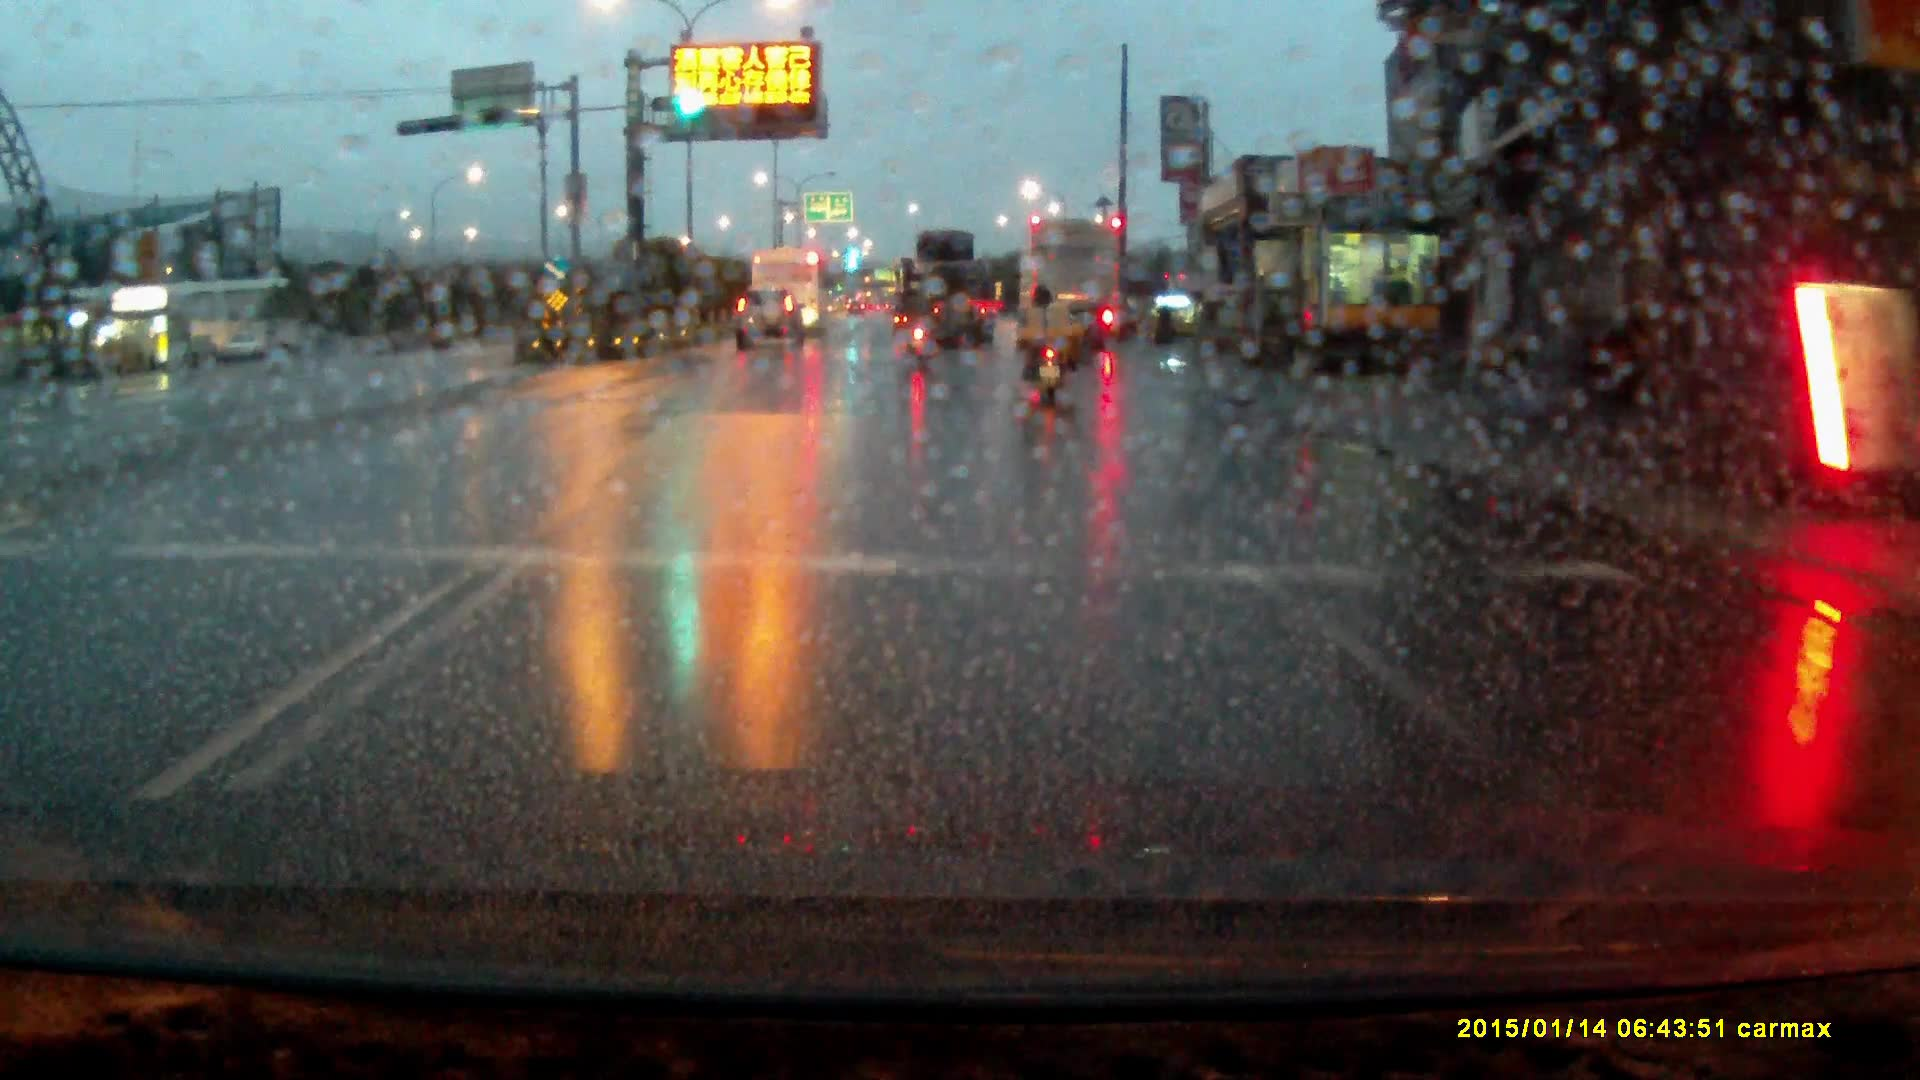rider: (1018, 287, 1083, 414), (902, 284, 939, 371)
vehicle: (1024, 219, 1122, 353), (900, 232, 996, 347), (755, 245, 830, 330), (732, 293, 808, 359)
